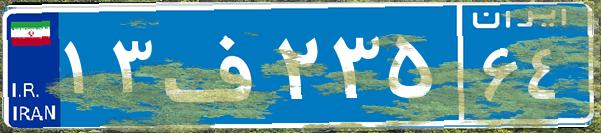1: (57, 26, 110, 107)
2: (273, 28, 330, 110)
3: (330, 28, 385, 110), (110, 28, 158, 105)
4: (525, 38, 570, 115)
5: (385, 28, 445, 110)
6: (475, 38, 525, 113)
ف: (158, 15, 273, 115)
